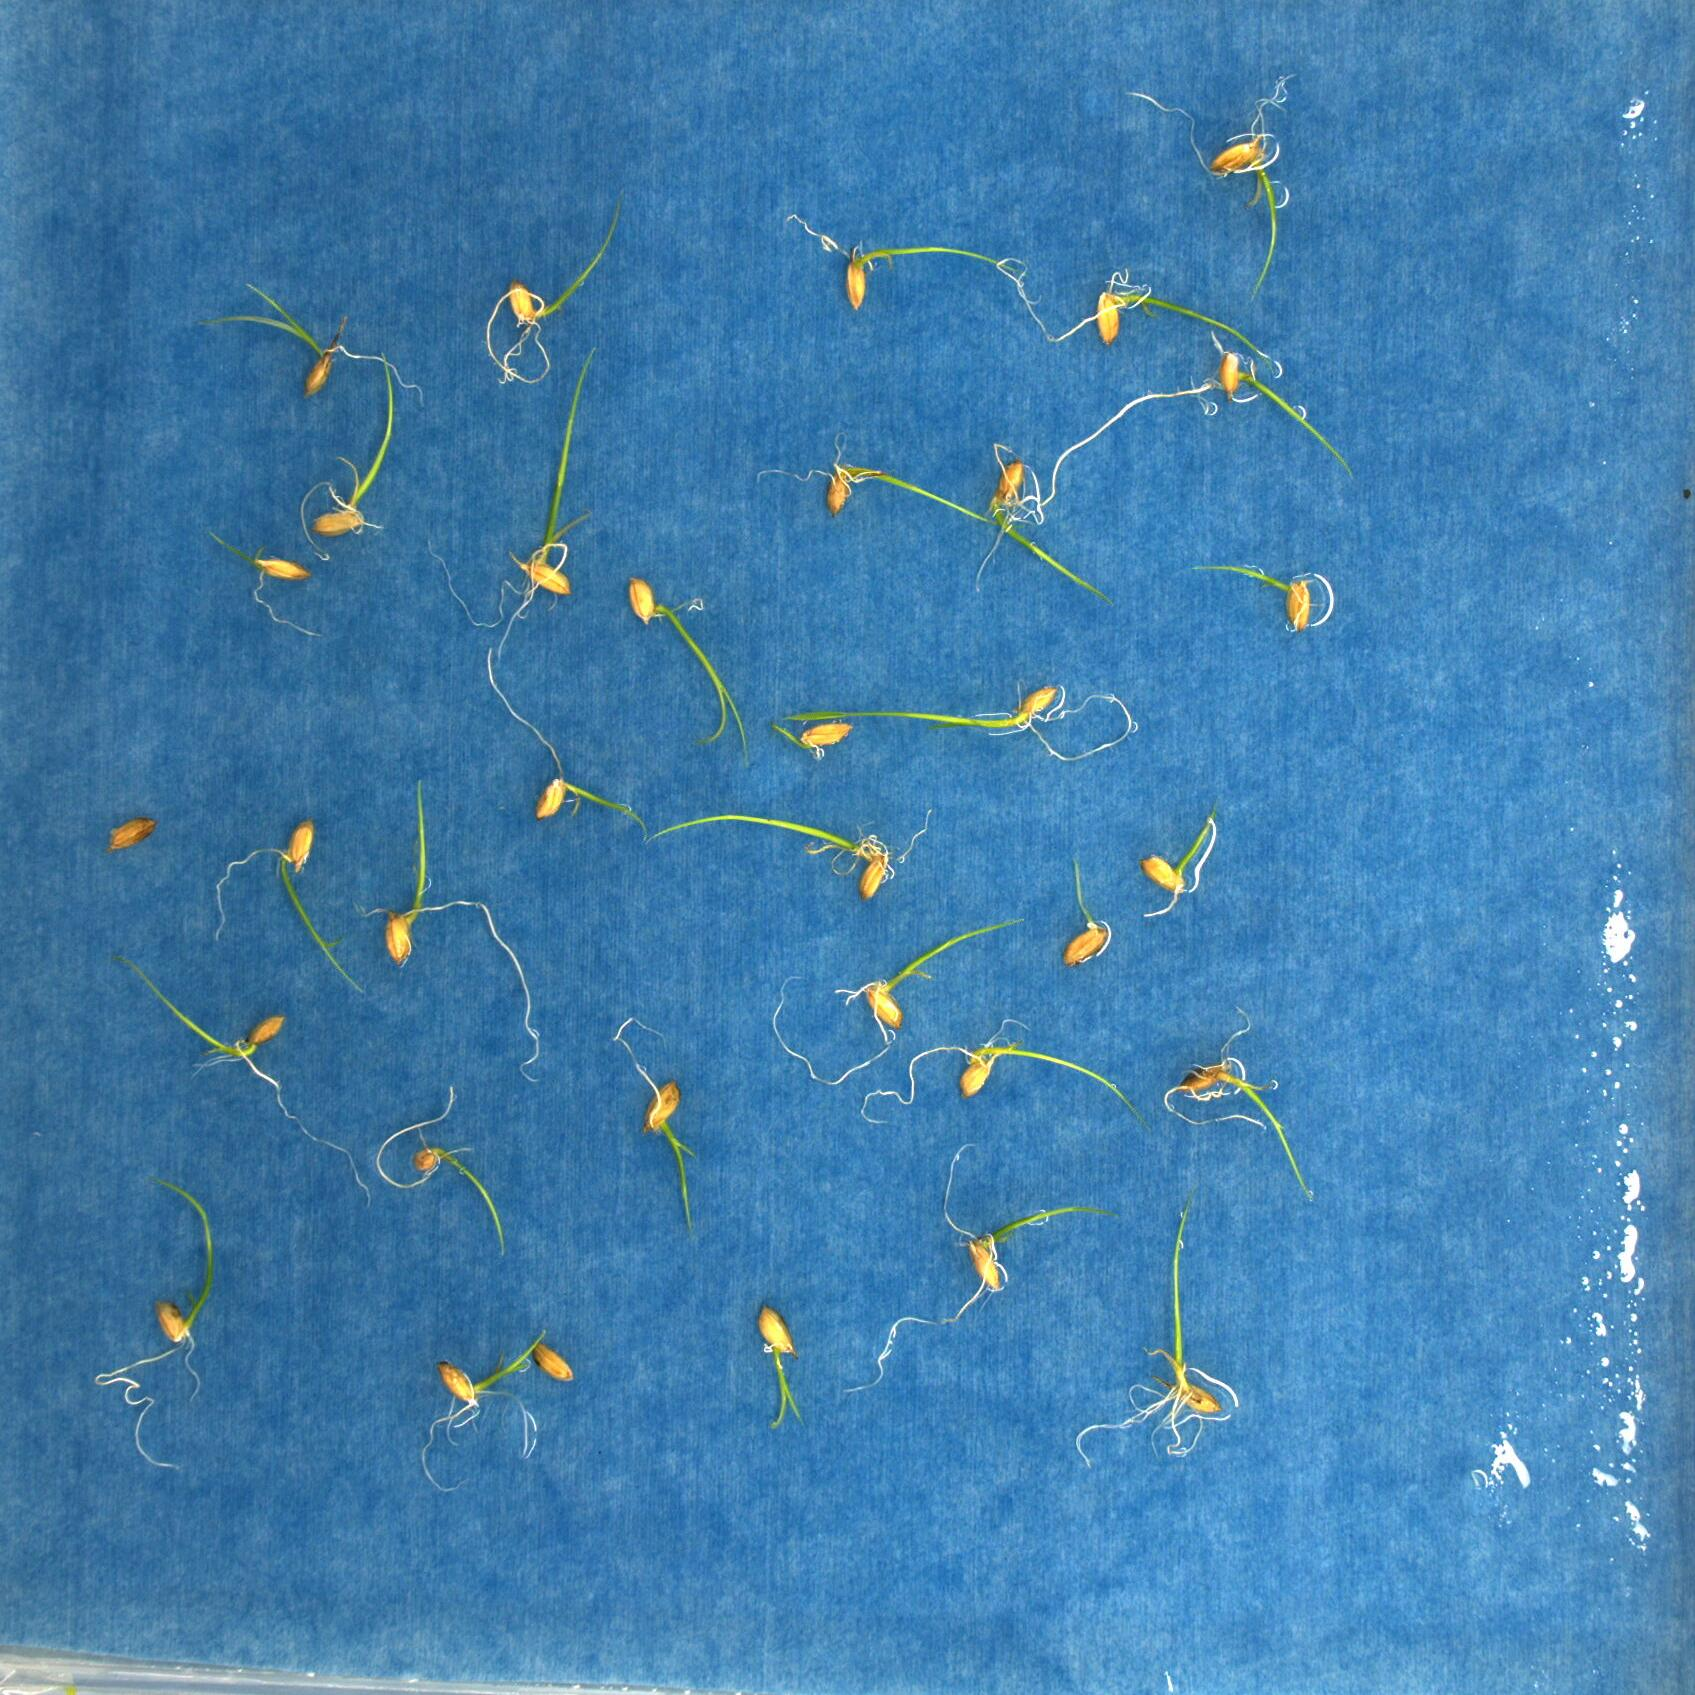not sprout: (532, 1340, 574, 1383), (110, 813, 157, 852)
sprout: (844, 1139, 1114, 1392), (112, 951, 371, 1212), (425, 346, 601, 661), (1037, 334, 1354, 508), (365, 779, 543, 1087), (770, 914, 1032, 1087), (1074, 1197, 1225, 1471), (1122, 71, 1295, 301), (95, 1180, 217, 1471), (858, 1017, 1153, 1135), (483, 647, 647, 843), (1164, 1006, 1315, 1205), (782, 681, 1135, 764), (993, 255, 1271, 359), (205, 279, 425, 407), (649, 806, 933, 903), (214, 820, 366, 997), (484, 199, 622, 386), (757, 425, 1007, 526), (624, 574, 751, 764), (973, 456, 1119, 612), (789, 213, 1018, 310), (377, 1087, 508, 1257), (419, 1327, 546, 1492), (298, 352, 394, 560), (608, 1014, 695, 1232), (206, 529, 328, 640), (1173, 563, 1315, 633), (1141, 796, 1218, 920), (754, 1305, 809, 1433), (1063, 858, 1108, 965), (771, 719, 854, 761)
